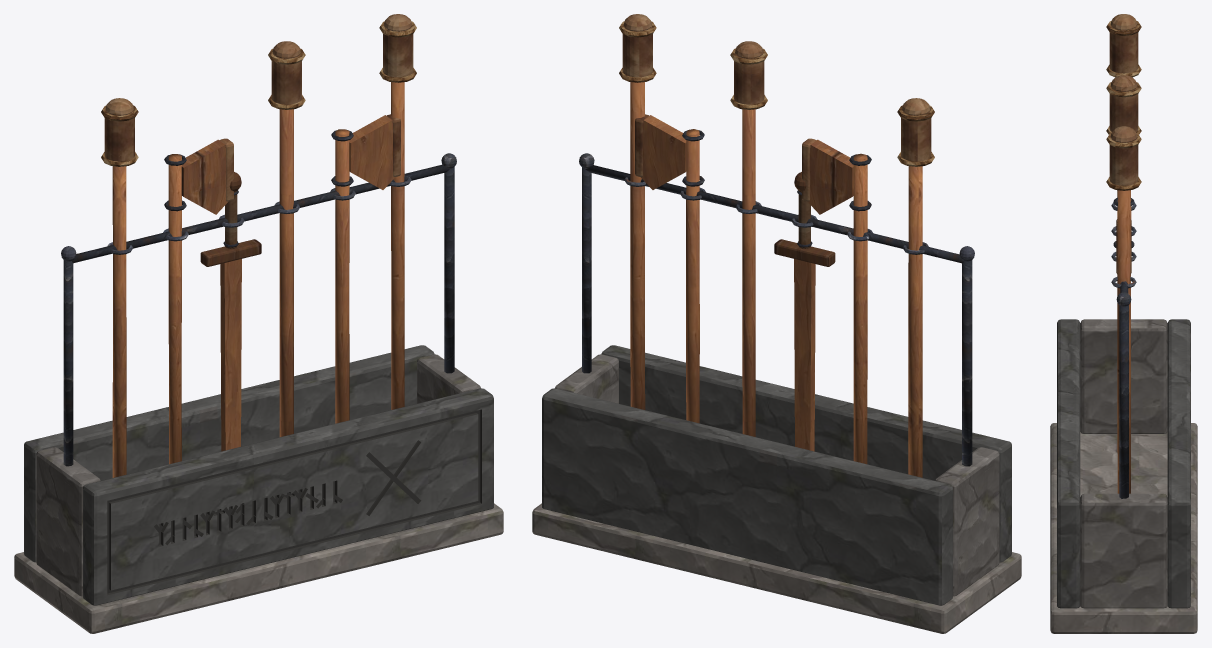
File: hs_practice_trough.glb
3 renders of one model, left to right at view 1: azimuth 30°, elevation 25°; view 2: azimuth 150°, elevation 25°; view 3: azimuth 270°, elevation 25°, orthographic. The views are drawn at different scales.
Parts seen in each view (by area): view 1: model; view 2: model; view 3: model.
Boxes of the visible parts, <box> form: model: <box>14,14,503,633</box>; model: <box>532,14,1021,633</box>; model: <box>1050,14,1197,633</box>.
Size of the model in its own units: 1.34 by 1.57 by 0.44.
Materials: 12 (11 with a texture image).
